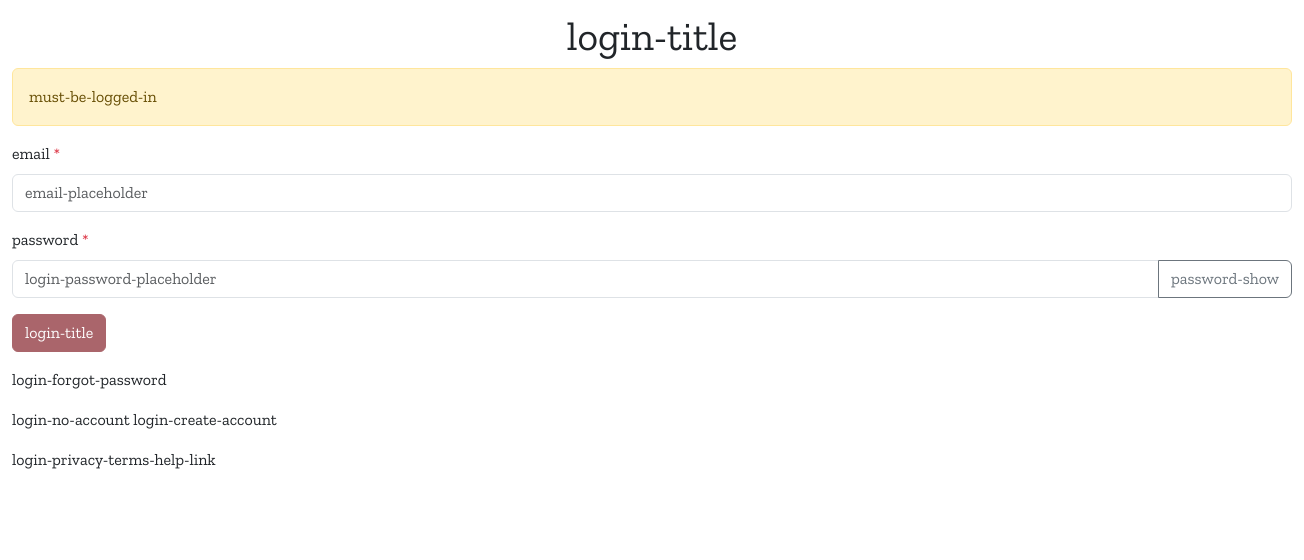
Test case: Login › renders and submits the form when the form is valid but receives an error
The image size is (1304, 560).
# Fill the form
Type "test@example.com" into the field with placeholder "email-placeholder" at (652, 193), box x1=12 y1=174 x2=1292 y2=212
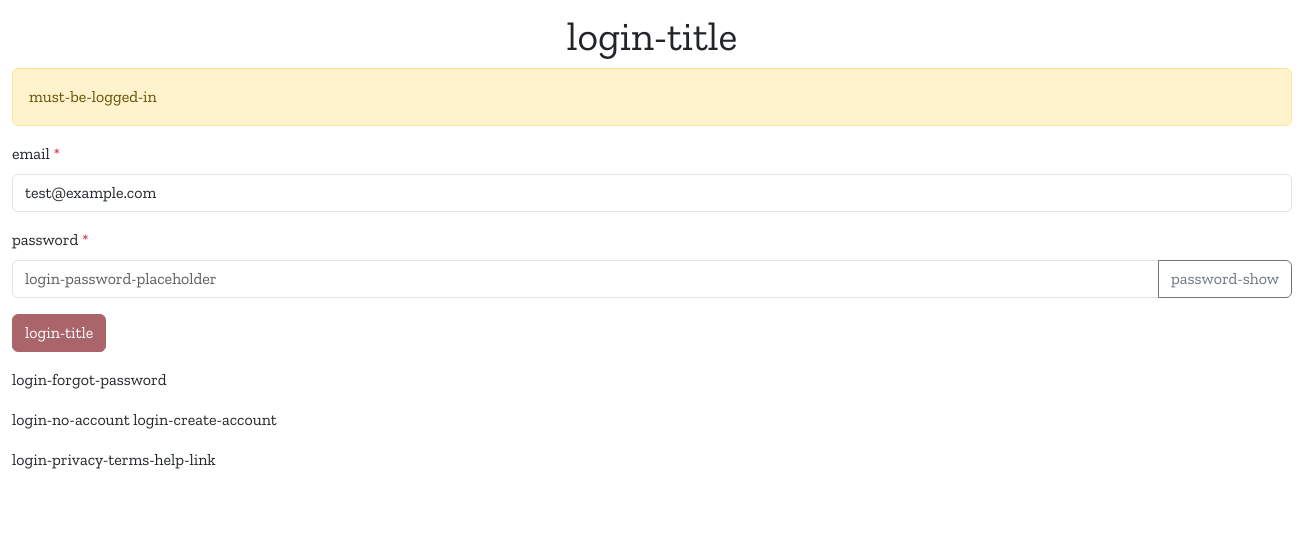
Type "test" into the password field with placeholder "login-password-placeholder" at (586, 279), box x1=12 y1=260 x2=1159 y2=298
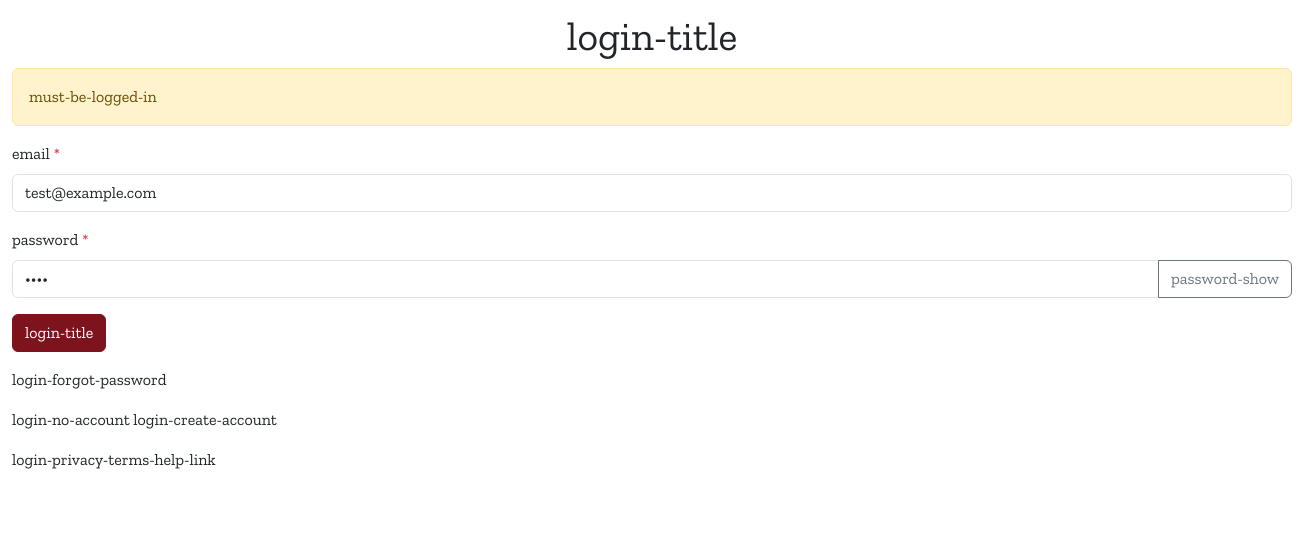
Submit the form from the button "login-title", box x1=12 y1=314 x2=106 y2=352
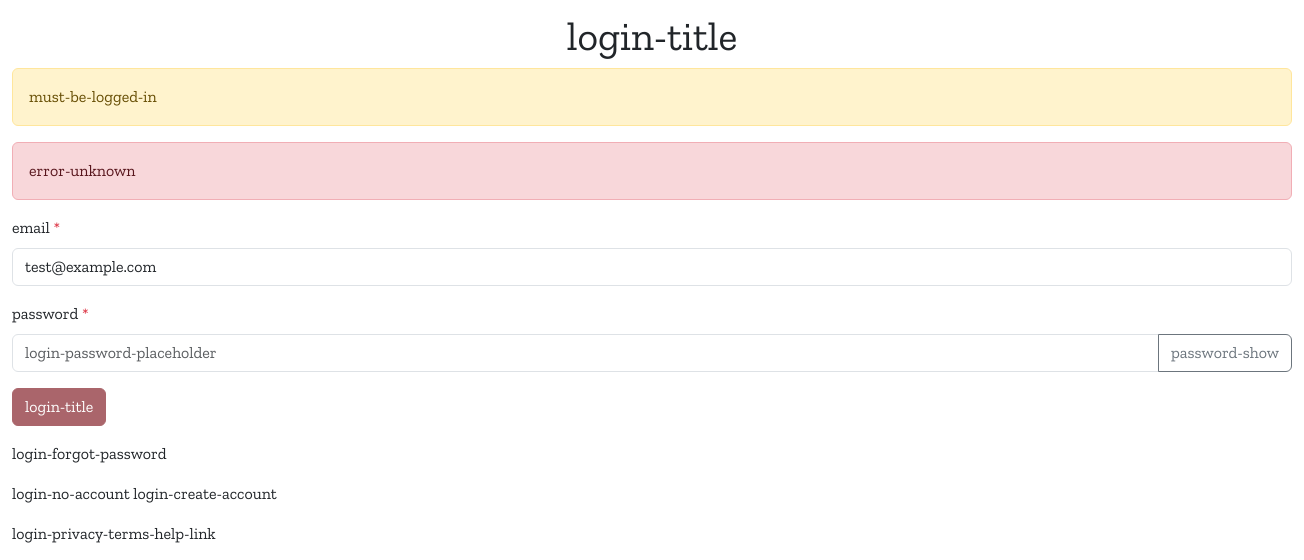
Now the text "error-unknown" is shown, box x1=12 y1=142 x2=1292 y2=200
Now the password field with placeholder "login-password-placeholder" is empty, box x1=12 y1=334 x2=1159 y2=372
